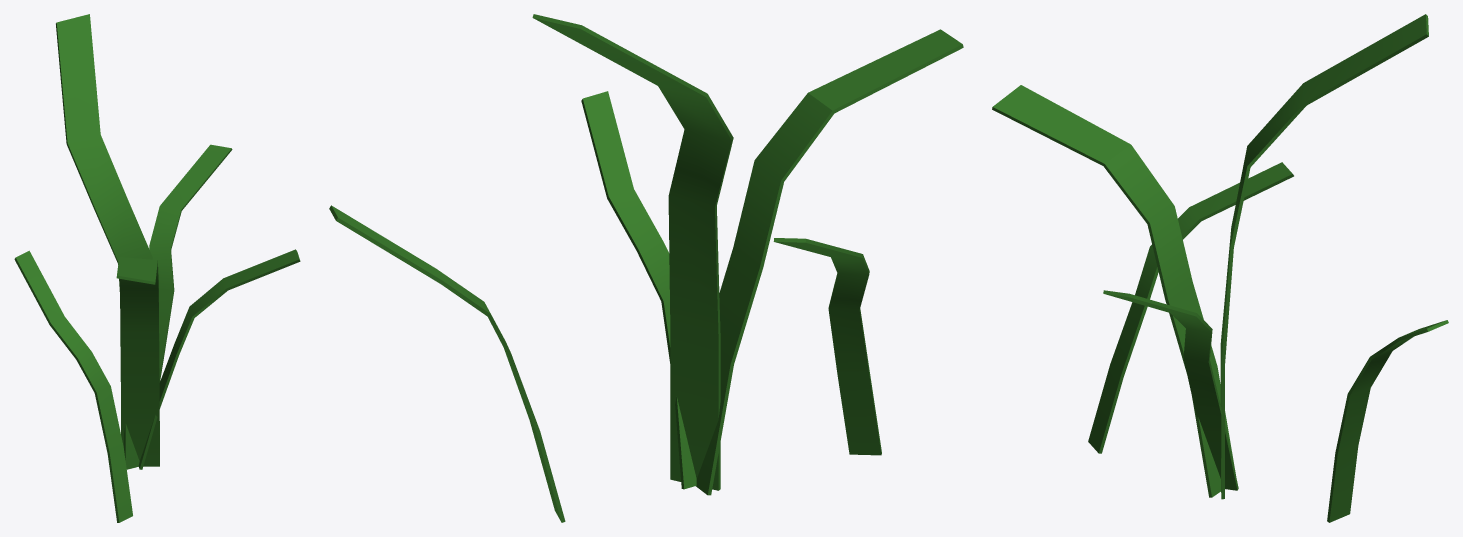
The model's file is Grass1.fbx.
3 renders of one model, left to right at view 1: azimuth 30°, elevation 25°; view 2: azimuth 150°, elevation 25°; view 3: azimuth 270°, elevation 25°, orthographic. The views are drawn at different scales.
Parts seen in each view (by area): view 1: Plane.001; view 2: Plane.001; view 3: Plane.001.
Boxes of the visible parts, x1=… form: Plane.001: x1=14, y1=14, x2=300, y2=522; Plane.001: x1=329, y1=14, x2=963, y2=522; Plane.001: x1=992, y1=14, x2=1448, y2=522.
Bounding box in the file's own units: 66.97 × 87.48 × 76.41.
